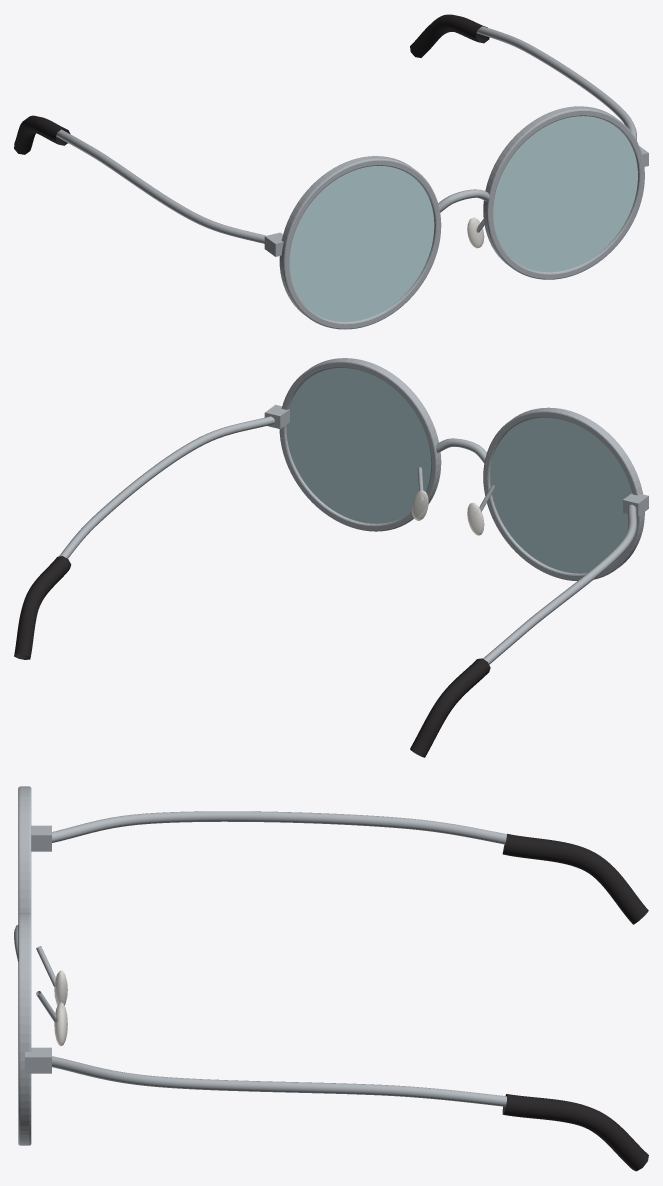
File: tatoe_round.glb
3 views of the same model, one above another, from view 1: azimuth 30°, elevation 25°; view 2: azimuth 150°, elevation 25°; view 3: azimuth 270°, elevation 25° (orthographic). The views are drawn at different scales.
Visible parts, largest first — view 1: left_lens, right_lens, left_rim, right_rim, left_temple, right_temple, right_ear_tip, left_ear_tip, bridge; view 2: right_lens, left_lens, right_rim, left_rim, right_temple, left_ear_tip, left_temple, right_ear_tip; view 3: right_temple, left_temple, left_ear_tip, right_ear_tip, right_rim, left_rim, right_hinge, left_hinge.
Boxes of the visible parts, x1=… form: left_lens: x1=289, y1=165, x2=434, y2=321; right_lens: x1=493, y1=116, x2=637, y2=271; left_rim: x1=279, y1=156, x2=441, y2=329; right_rim: x1=483, y1=106, x2=644, y2=279; left_temple: x1=56, y1=129, x2=266, y2=243; right_temple: x1=476, y1=26, x2=636, y2=140; right_ear_tip: x1=410, y1=14, x2=489, y2=57; left_ear_tip: x1=14, y1=115, x2=70, y2=154; bridge: x1=438, y1=189, x2=489, y2=212; right_lens: x1=286, y1=368, x2=431, y2=523; left_lens: x1=490, y1=417, x2=631, y2=573; right_rim: x1=279, y1=358, x2=441, y2=531; left_rim: x1=483, y1=407, x2=644, y2=580; right_temple: x1=59, y1=416, x2=274, y2=558; left_ear_tip: x1=410, y1=658, x2=490, y2=757; left_temple: x1=483, y1=504, x2=636, y2=664; right_ear_tip: x1=14, y1=556, x2=71, y2=659; right_temple: x1=52, y1=1056, x2=506, y2=1106; left_temple: x1=52, y1=811, x2=506, y2=844; left_ear_tip: x1=502, y1=833, x2=648, y2=924; right_ear_tip: x1=502, y1=1094, x2=648, y2=1171; right_rim: x1=18, y1=912, x2=31, y2=1145; left_rim: x1=18, y1=786, x2=31, y2=913; right_hinge: x1=25, y1=1047, x2=51, y2=1073; left_hinge: x1=31, y1=825, x2=51, y2=851.
Bounding box in the file's own units: 0.1435 × 0.0515 × 0.1402.
